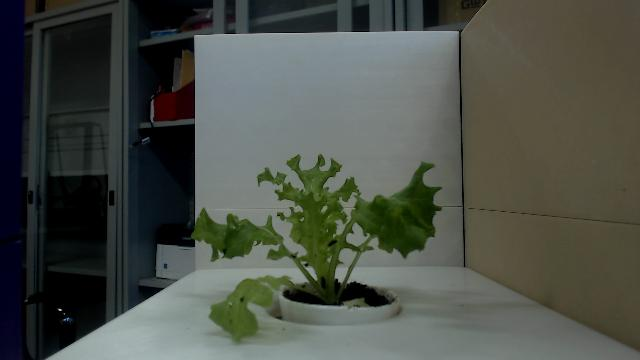Vegetative Stage: (189, 151, 443, 343)
